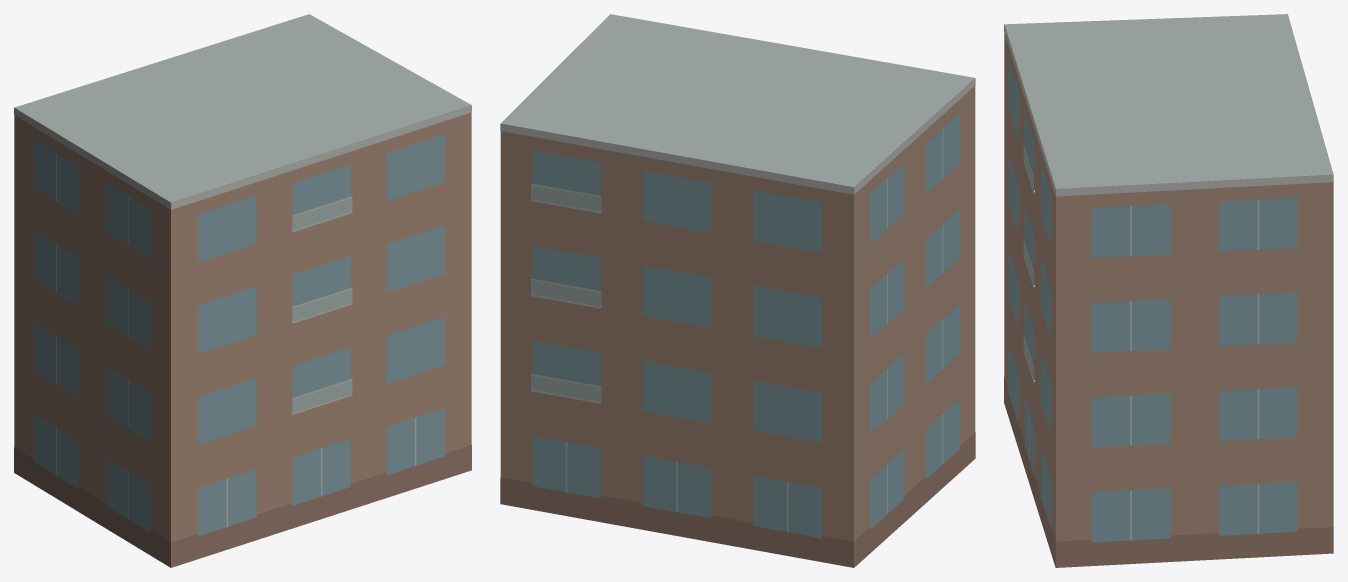
Rendered from survey-upis-32573853.glb.
The picture shows the model from 3 angles, left to right: view 1: azimuth 30°, elevation 25°; view 2: azimuth 150°, elevation 25°; view 3: azimuth 270°, elevation 25°; orthographic projection. The views are drawn at different scales.
Parts seen in each view (by area): view 1: survey-upis-32573853.tmp; view 2: survey-upis-32573853.tmp; view 3: survey-upis-32573853.tmp.
Part boxes in pixels (x1=…): survey-upis-32573853.tmp: x1=14, y1=14, x2=471, y2=567; survey-upis-32573853.tmp: x1=500, y1=14, x2=975, y2=567; survey-upis-32573853.tmp: x1=1004, y1=14, x2=1333, y2=567.
Bounding box in the file's own units: 12.2 × 12.3 × 9.7.
